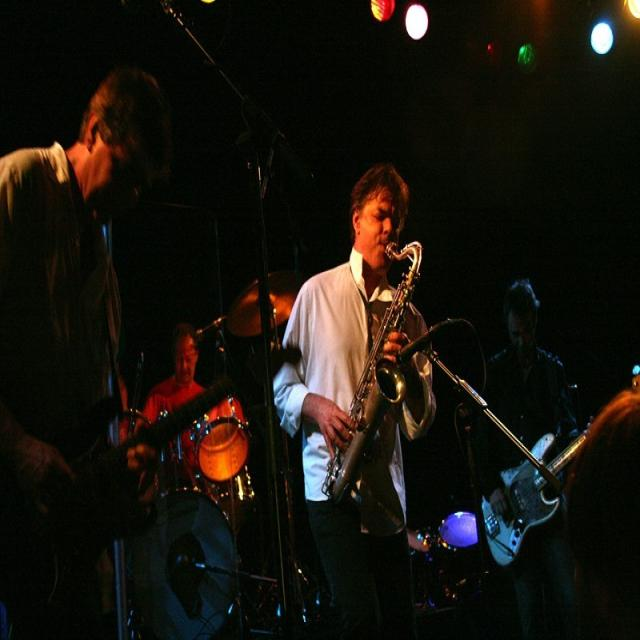drums: (100, 269, 303, 635)
saxophone: (319, 243, 424, 514)
